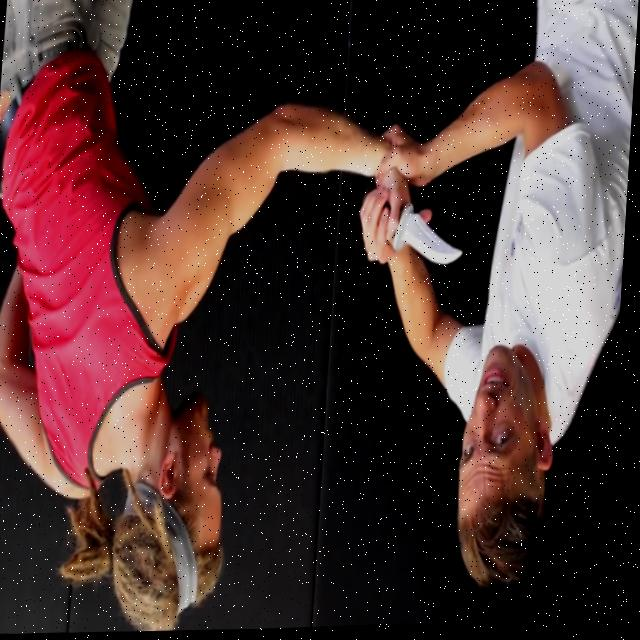knife: (390, 200, 471, 272)
